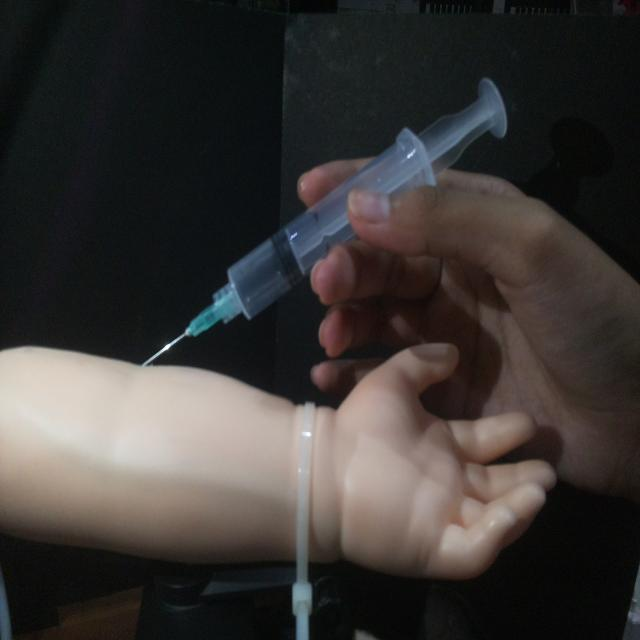28deg: (137, 72, 510, 370)
